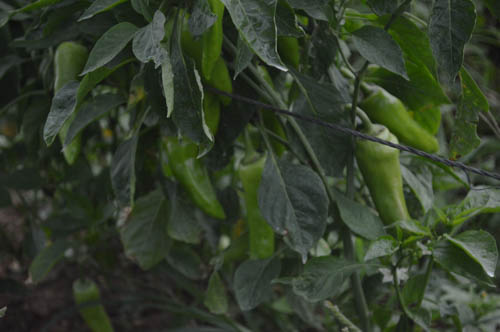ChiliPepper: (353, 126, 420, 242), (167, 9, 240, 104), (354, 79, 445, 154), (162, 133, 231, 224), (46, 40, 95, 165), (235, 151, 282, 267), (190, 2, 229, 85), (69, 277, 117, 332), (274, 33, 306, 69)
